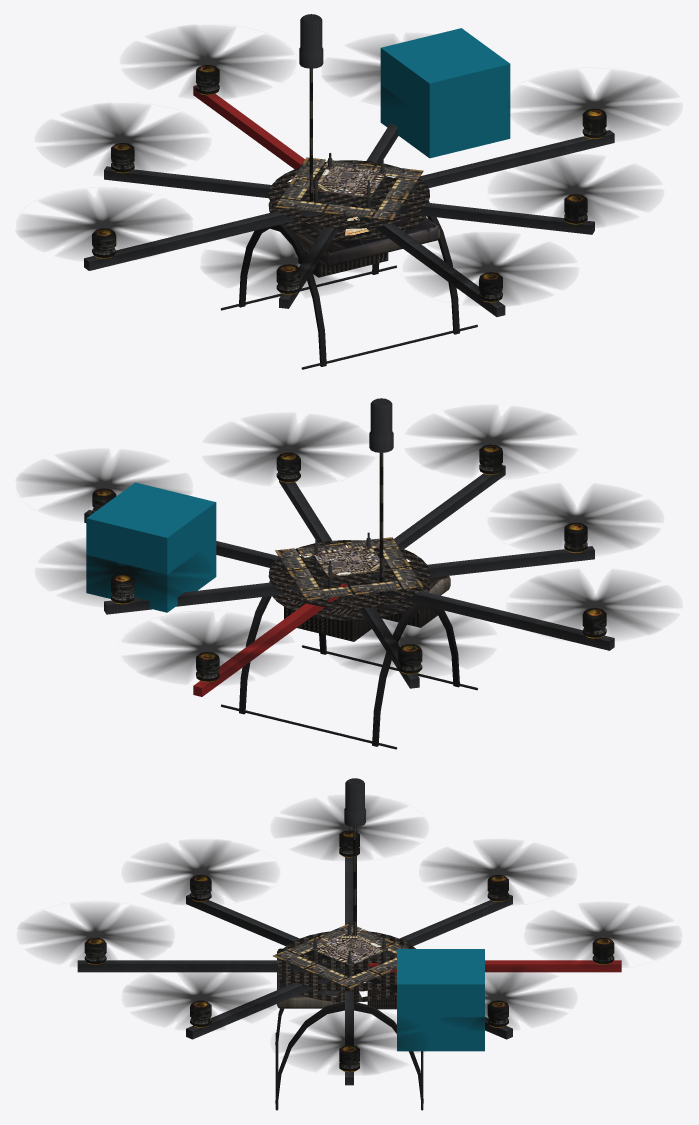
File: oktokopter.obj
3 renders of one model, top to bottom at view 1: azimuth 30°, elevation 25°; view 2: azimuth 150°, elevation 25°; view 3: azimuth 270°, elevation 25°, orthographic. The views are drawn at different scales.
Visible parts, largest first — view 1: Antenna, Quader001, MotionFan008, MotionFan007, MotionFan012, MotionFan014, MotionFan009, MotionFan010, MotionFan013, MotionFan011; view 2: Antenna, Quader001, MotionFan014, MotionFan008, MotionFan013, MotionFan007, MotionFan010, MotionFan009, MotionFan012, MotionFan011; view 3: Antenna, Quader001, MotionFan012, MotionFan008, MotionFan010, MotionFan009, MotionFan007, MotionFan013, MotionFan014, MotionFan011.
Part boxes in pixels (x1,y1,x2,y2): Antenna: (84, 14, 614, 369); Quader001: (380, 28, 510, 158); MotionFan008: (45, 104, 200, 175); MotionFan007: (130, 26, 285, 97); MotionFan012: (516, 74, 671, 137); MotionFan014: (19, 192, 189, 257); MotionFan009: (203, 229, 373, 293); MotionFan010: (498, 155, 653, 227); MotionFan013: (413, 233, 568, 305); MotionFan011: (325, 37, 419, 102); Antenna: (84, 398, 614, 749); Quader001: (86, 482, 216, 612); MotionFan014: (516, 573, 671, 637); MotionFan008: (334, 608, 485, 673); MotionFan013: (415, 409, 566, 474); MotionFan007: (132, 616, 283, 681); MotionFan010: (213, 417, 364, 482); MotionFan009: (498, 488, 653, 551); MotionFan012: (19, 453, 189, 517); MotionFan011: (45, 542, 200, 602); Antenna: (77, 778, 621, 1110); Quader001: (397, 949, 484, 1051); MotionFan012: (280, 1010, 419, 1074); MotionFan008: (422, 843, 573, 901); MotionFan010: (125, 968, 276, 1027); MotionFan009: (131, 840, 270, 903); MotionFan007: (528, 906, 678, 964); MotionFan013: (20, 905, 171, 964); MotionFan014: (280, 796, 419, 859); MotionFan011: (448, 966, 567, 1029).
Bounding box in the file's own units: 1.11 × 0.5049 × 1.11.
Materials: 13 (9 with a texture image).
